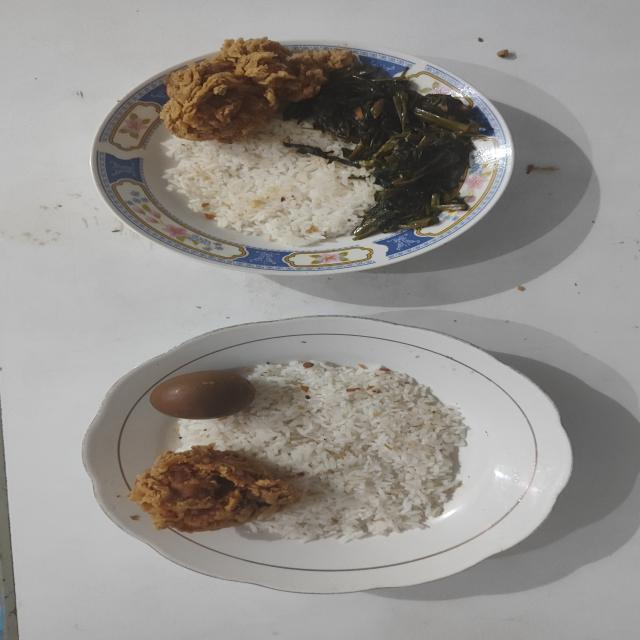nasi_putih: (173, 360, 470, 542), (161, 120, 379, 247)
tumis_kangkung: (284, 61, 482, 239)
